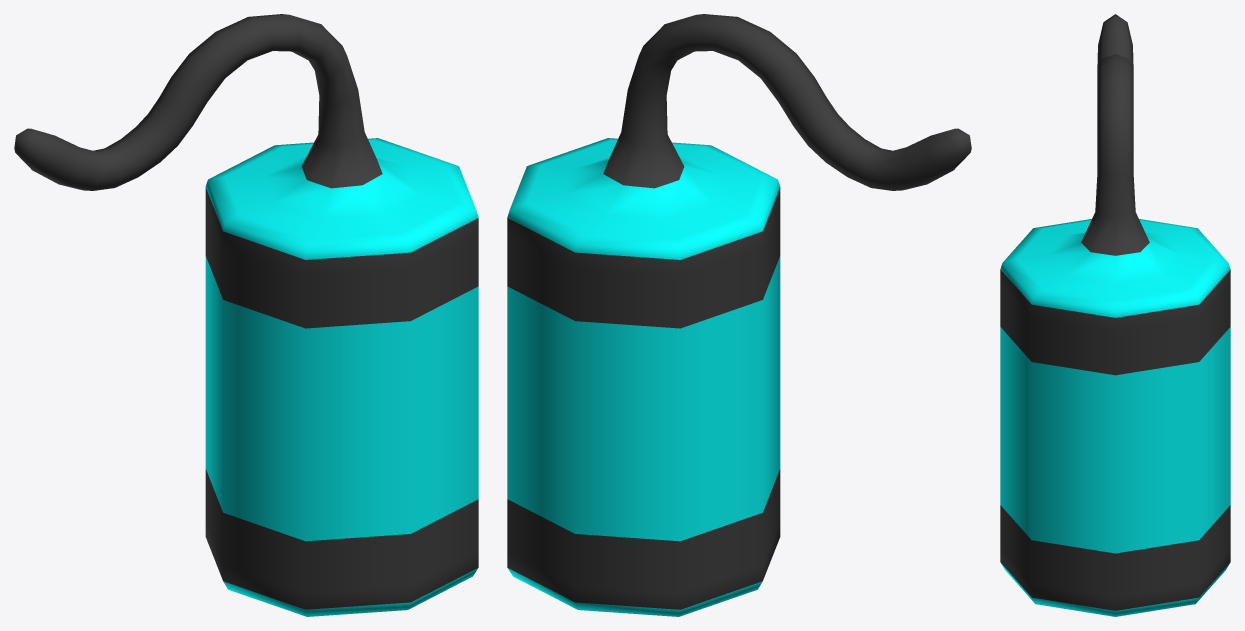
File: sea lantern.fbx
3 views of the same model, side by side, from view 1: azimuth 30°, elevation 25°; view 2: azimuth 150°, elevation 25°; view 3: azimuth 270°, elevation 25° (orthographic). The views are drawn at different scales.
Parts seen in each view (by area): view 1: Cube; view 2: Cube; view 3: Cube.
Part boxes in pixels (<box>): Cube: <box>14,14,478,616</box>; Cube: <box>507,14,971,616</box>; Cube: <box>1000,14,1230,616</box>.
Bounding box in the file's own units: 343 × 422 × 183.
